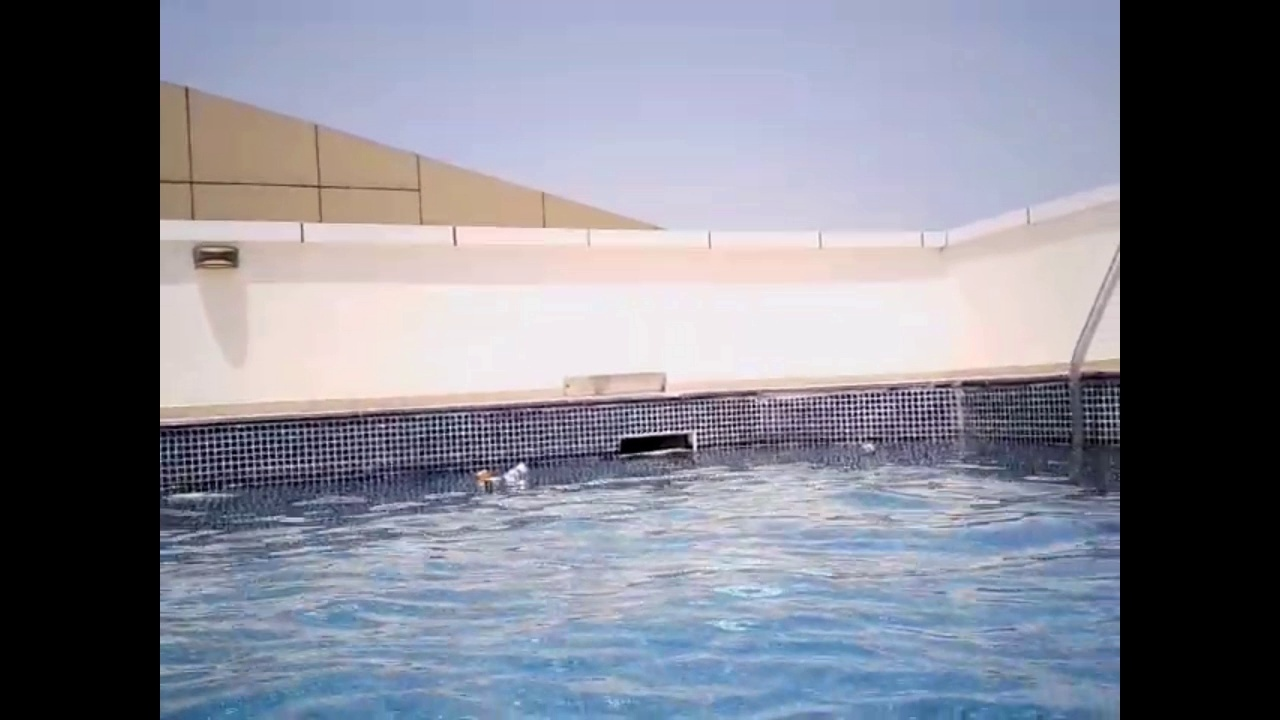debris: (500, 455, 532, 492), (481, 475, 505, 496), (474, 468, 494, 490), (857, 441, 877, 459)
